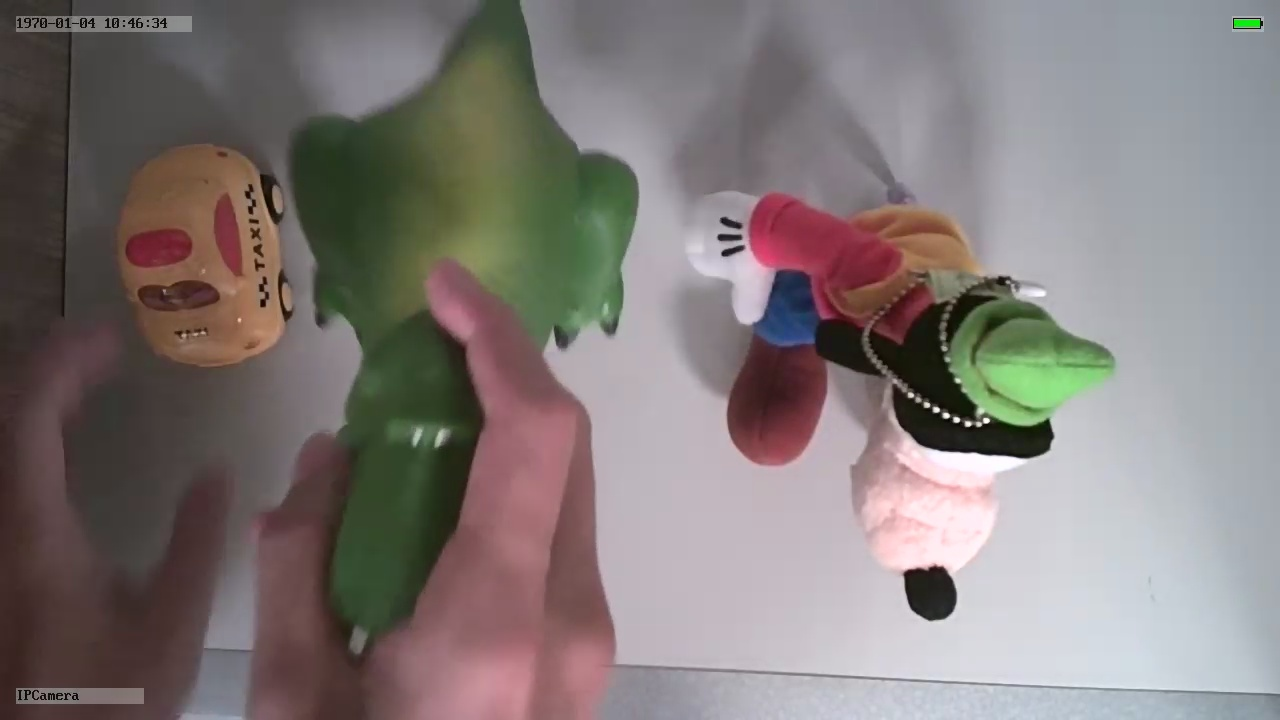car: (115, 138, 294, 367)
goofy: (679, 182, 1113, 629)
